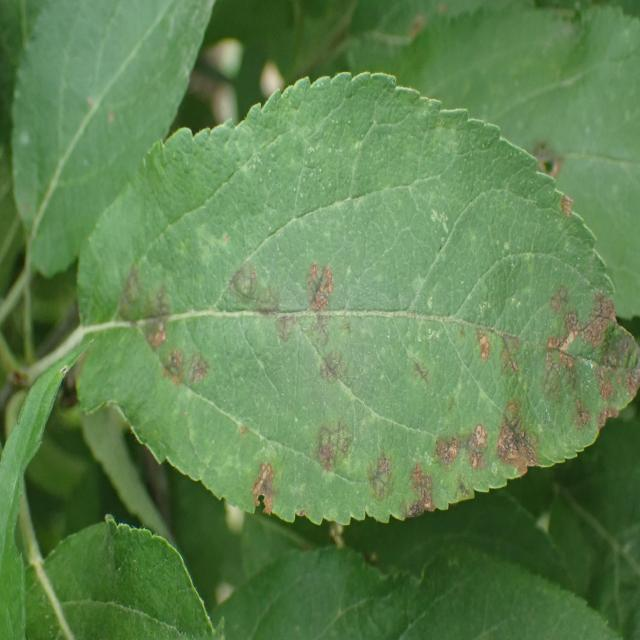scab: (79, 190, 640, 516)
